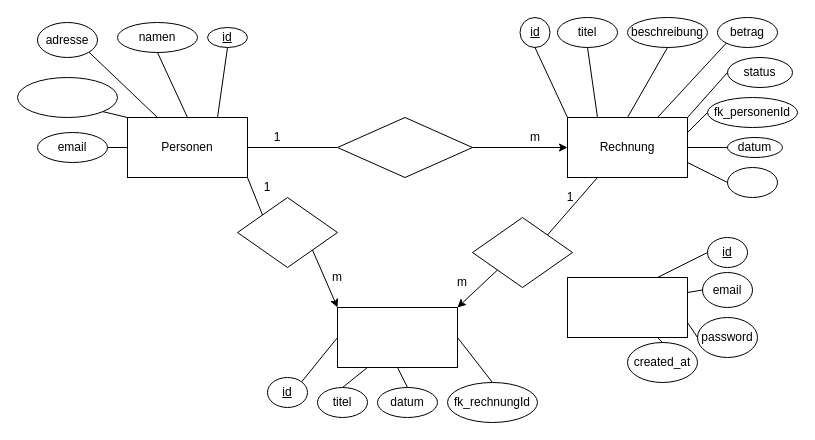
Image size: 815x440. Some labels were removed from this diagram. Here are the shapes that lost their labels. From the top down, the centre of each, then its label:
At point (67, 97): "telefonnummer".
At point (404, 147): "bezahlt".
At point (752, 182): "datei".
At point (287, 232): "erhält".
At point (522, 252): "fügt hinzu".
At point (627, 307): "Users".
At point (397, 337): "Mahnung".
